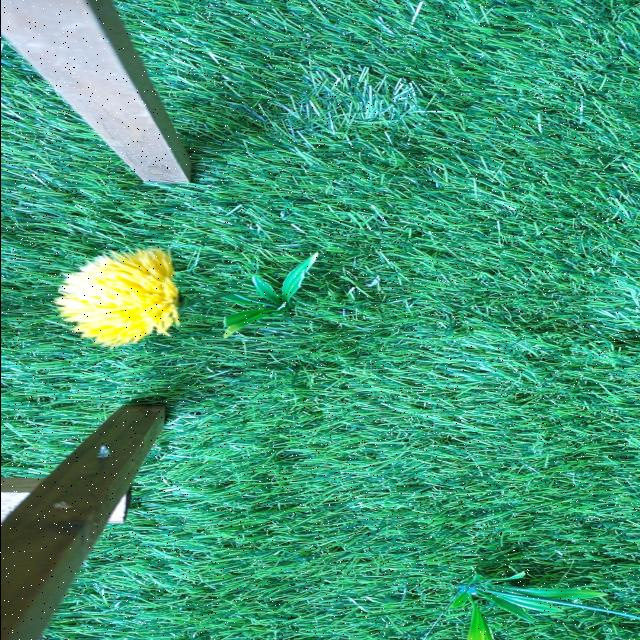base: (436, 574, 608, 640), (221, 252, 317, 336)
flower: (55, 250, 185, 348)
